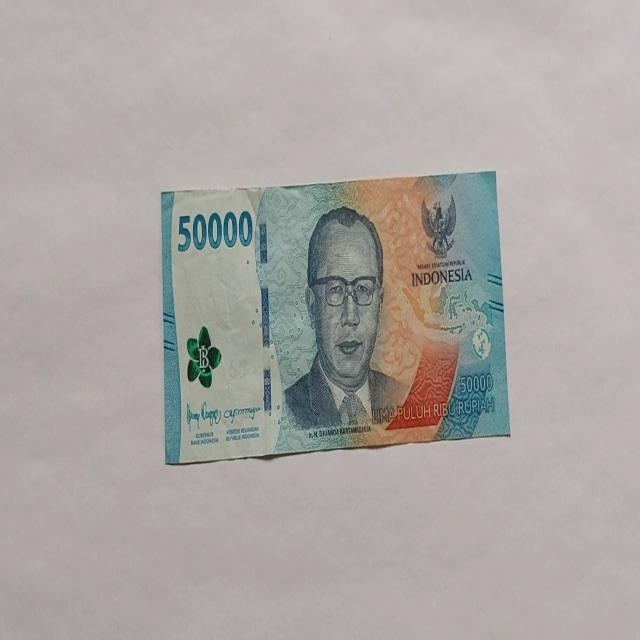lima puluh ribu rupiah: (160, 170, 510, 466), (279, 204, 411, 438)
